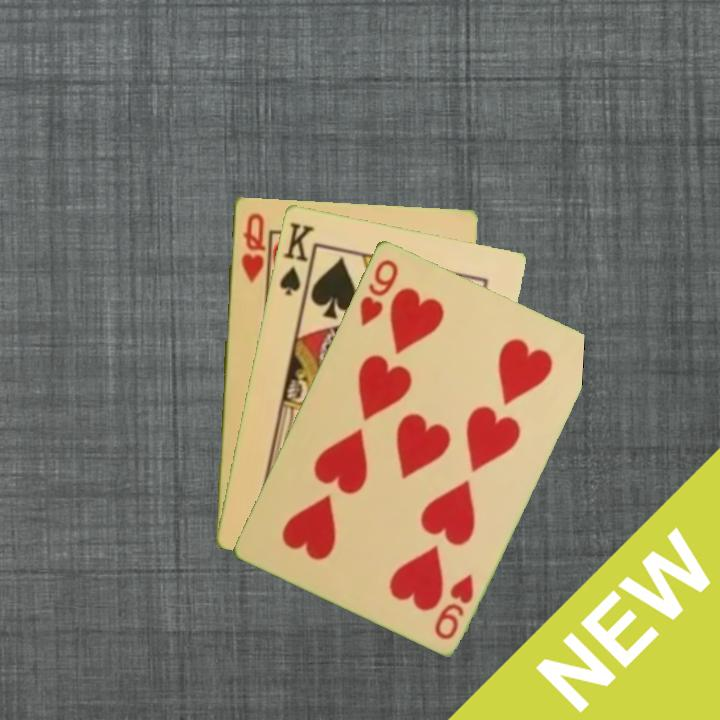9h: (430, 570, 477, 642), (355, 255, 401, 328)
Ks: (275, 218, 317, 298)
Qh: (237, 209, 267, 285)
